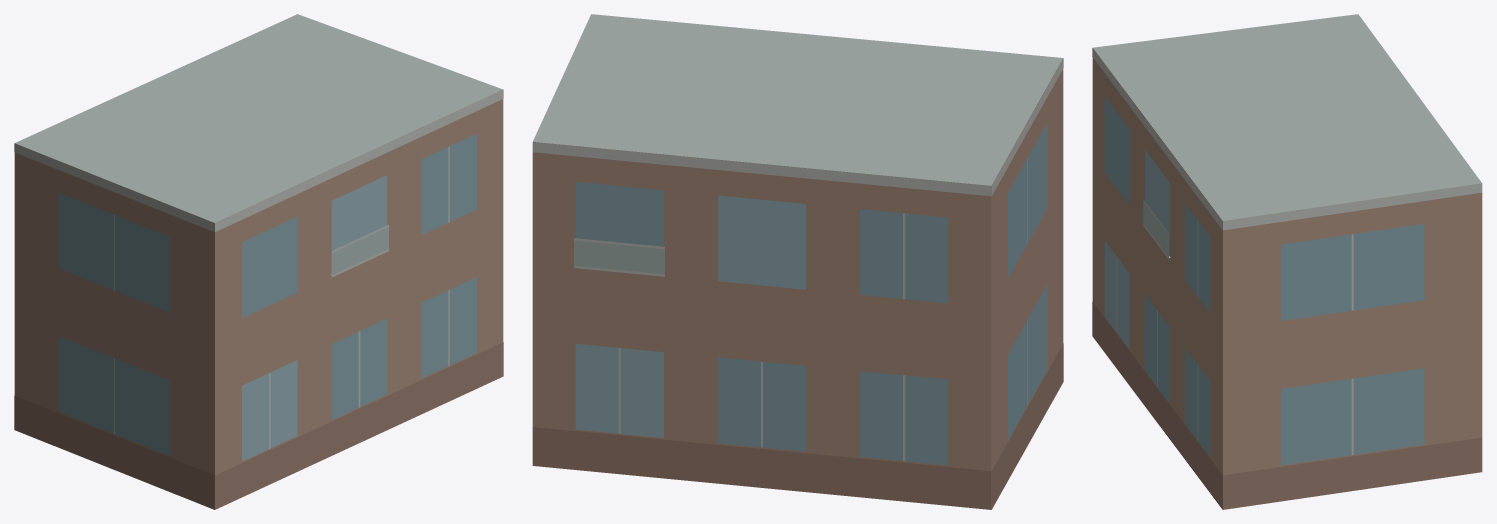
Rendered from survey-upis-32612560.glb.
The picture shows the model from 3 angles, left to right: view 1: azimuth 30°, elevation 25°; view 2: azimuth 150°, elevation 25°; view 3: azimuth 270°, elevation 25°; orthographic projection. The views are drawn at different scales.
Visible parts, largest first — view 1: survey-upis-32612560.tmp; view 2: survey-upis-32612560.tmp; view 3: survey-upis-32612560.tmp.
Boxes of the visible parts, x1,y1,x2,y2 form: survey-upis-32612560.tmp: [14, 14, 503, 509]; survey-upis-32612560.tmp: [532, 14, 1063, 509]; survey-upis-32612560.tmp: [1092, 14, 1482, 509].
Bounding box in the file's own units: 11.71 × 7.6 × 9.31.
